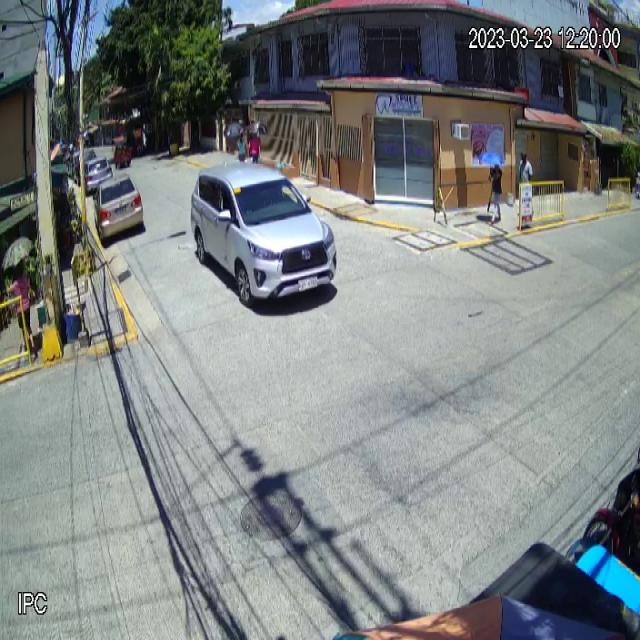Car: (190, 158, 337, 308)
